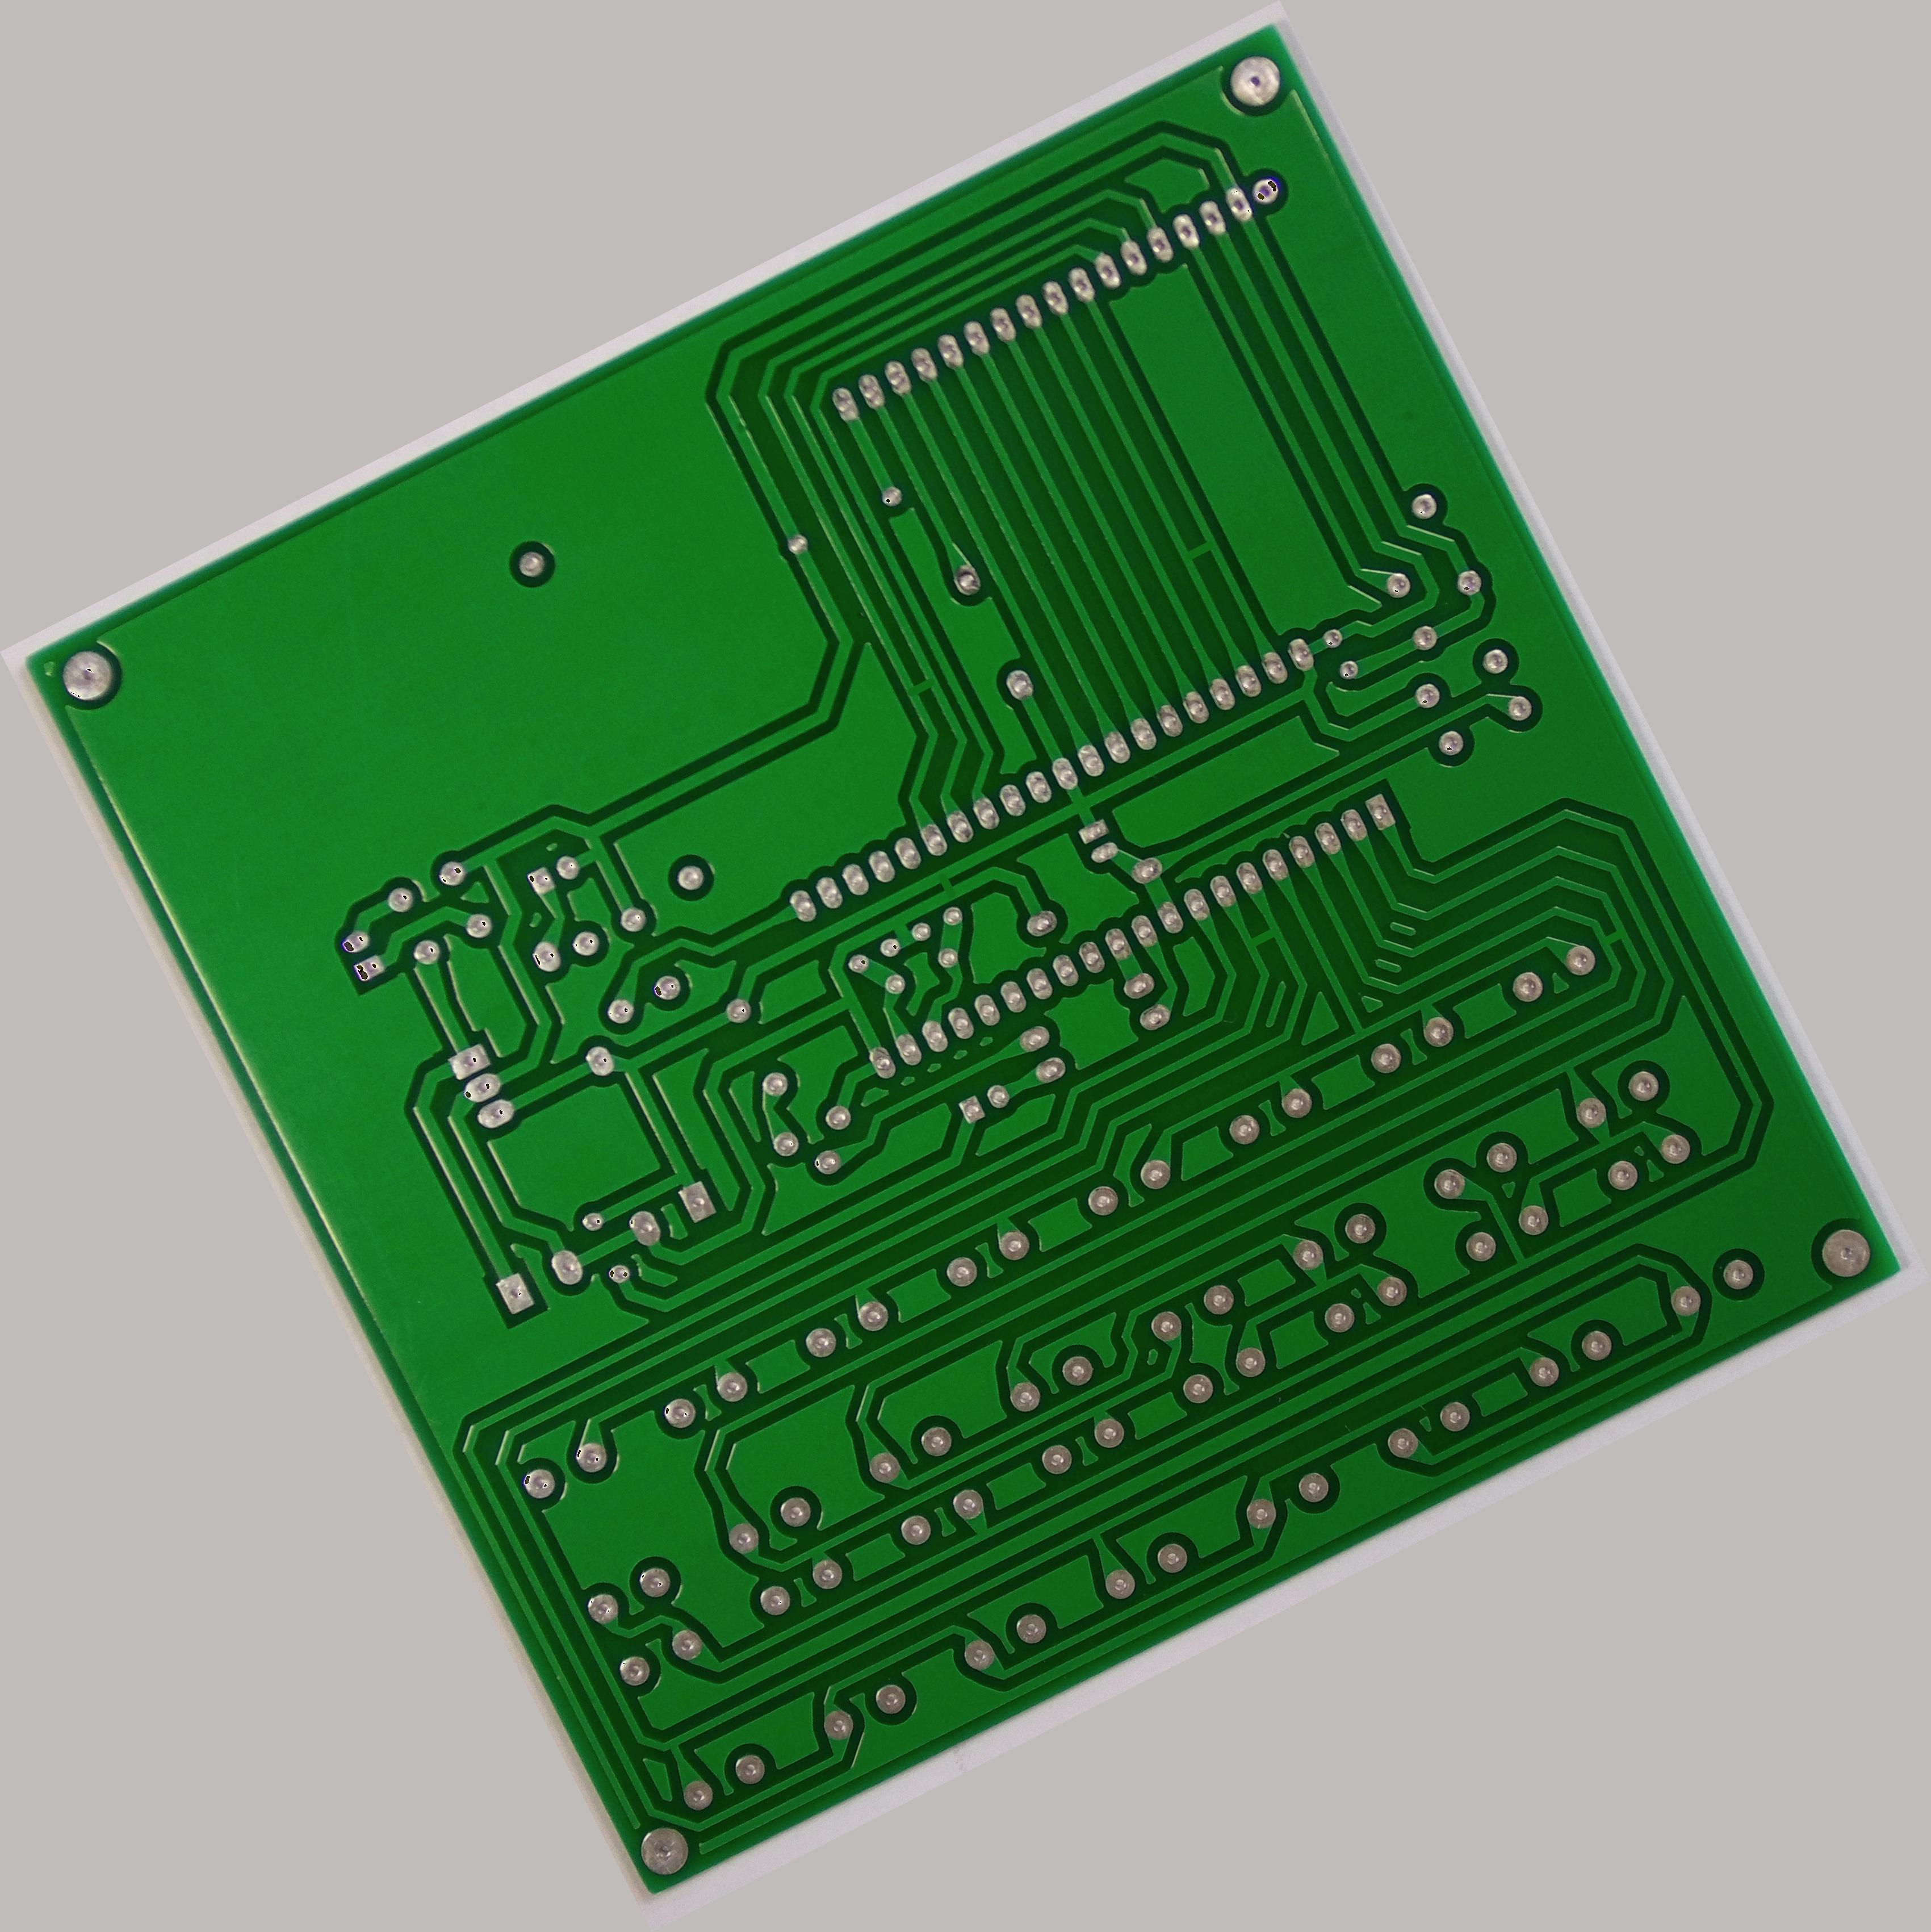short: (1169, 522, 1233, 580), (1234, 913, 1291, 961), (920, 858, 971, 909), (895, 663, 946, 709), (1588, 915, 1636, 959)
